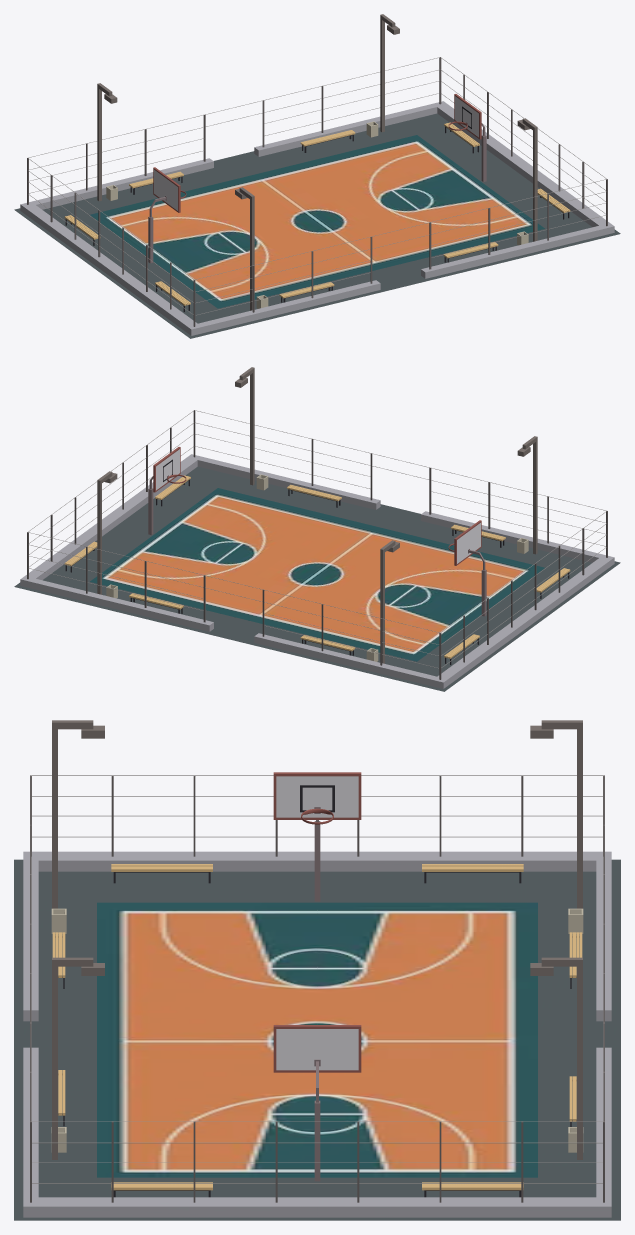
The model's file is basketball_court-transformed.glb.
The picture shows the model from 3 angles, top to bottom: view 1: azimuth 30°, elevation 25°; view 2: azimuth 150°, elevation 25°; view 3: azimuth 270°, elevation 25°; orthographic projection. The views are drawn at different scales.
Parts seen in each view (by area): view 1: Object_5, Object_17, Object_31; view 2: Object_5, Object_17, Object_31; view 3: Object_5, Object_17, Object_31.
Boxes of the visible parts, x1,y1,x2,y2 form: Object_5: (14, 14, 620, 338); Object_17: (90, 135, 544, 308); Object_31: (28, 57, 606, 315); Object_5: (14, 367, 620, 691); Object_17: (90, 488, 544, 661); Object_31: (28, 410, 606, 668); Object_5: (14, 720, 620, 1220); Object_17: (97, 902, 537, 1177); Object_31: (30, 775, 604, 1183).
Size of the model in its own units: 5.79 by 1.51 by 4.11.
3 materials, 3 textured.
